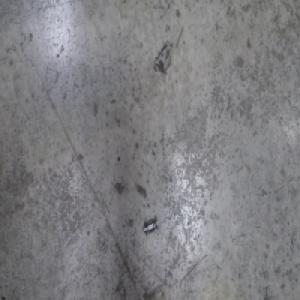Bolt: (143, 216, 159, 237)
